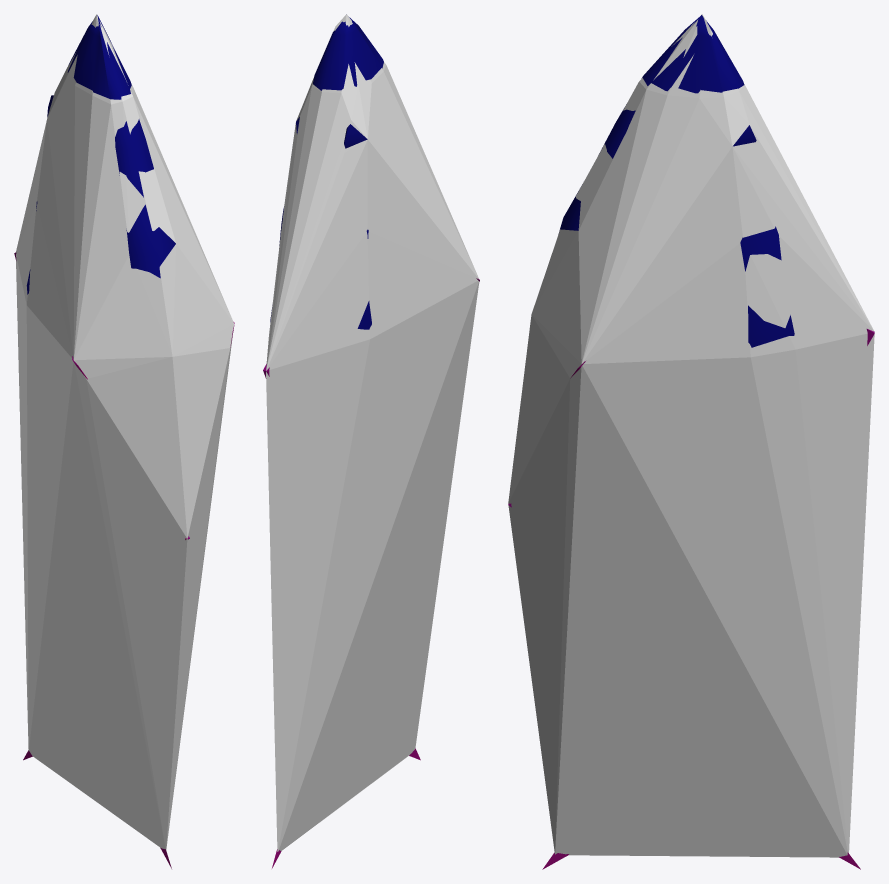
The model's file is MESH_Fauna_Fish_2207_00.fbx.
3 views of the same model, side by side, from view 1: azimuth 30°, elevation 25°; view 2: azimuth 150°, elevation 25°; view 3: azimuth 270°, elevation 25° (orthographic). The views are drawn at different scales.
Visible parts, largest first — view 1: COL_Fauna_Fish_2207_00, MESH_Fauna_Fish_2207_00_LOD0; view 2: COL_Fauna_Fish_2207_00, MESH_Fauna_Fish_2207_00_LOD0; view 3: COL_Fauna_Fish_2207_00, MESH_Fauna_Fish_2207_00_LOD0.
Boxes of the visible parts, x1=… form: COL_Fauna_Fish_2207_00: x1=16, y1=14, x2=234, y2=849; MESH_Fauna_Fish_2207_00_LOD0: x1=14, y1=15, x2=234, y2=868; COL_Fauna_Fish_2207_00: x1=266, y1=14, x2=479, y2=851; MESH_Fauna_Fish_2207_00_LOD0: x1=263, y1=17, x2=479, y2=868; COL_Fauna_Fish_2207_00: x1=508, y1=14, x2=874, y2=857; MESH_Fauna_Fish_2207_00_LOD0: x1=508, y1=15, x2=874, y2=869.
Size of what is drawn, in the model's own units: 42.13 by 200 by 77.7.
